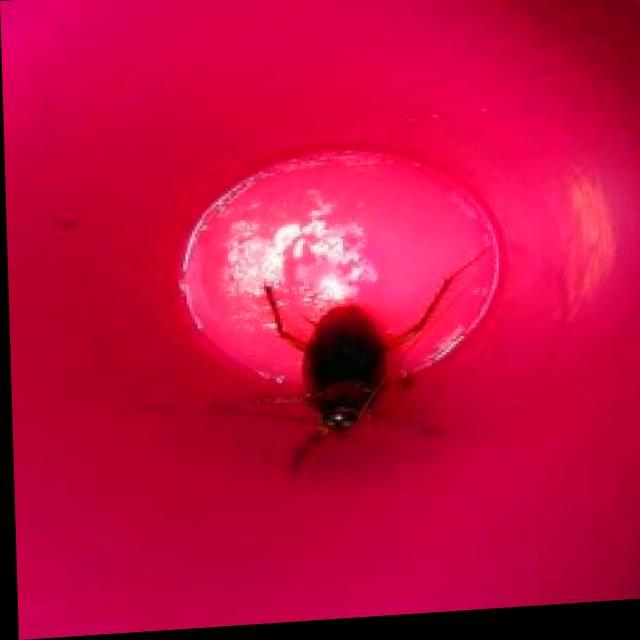cockroach: (235, 271, 443, 462)
